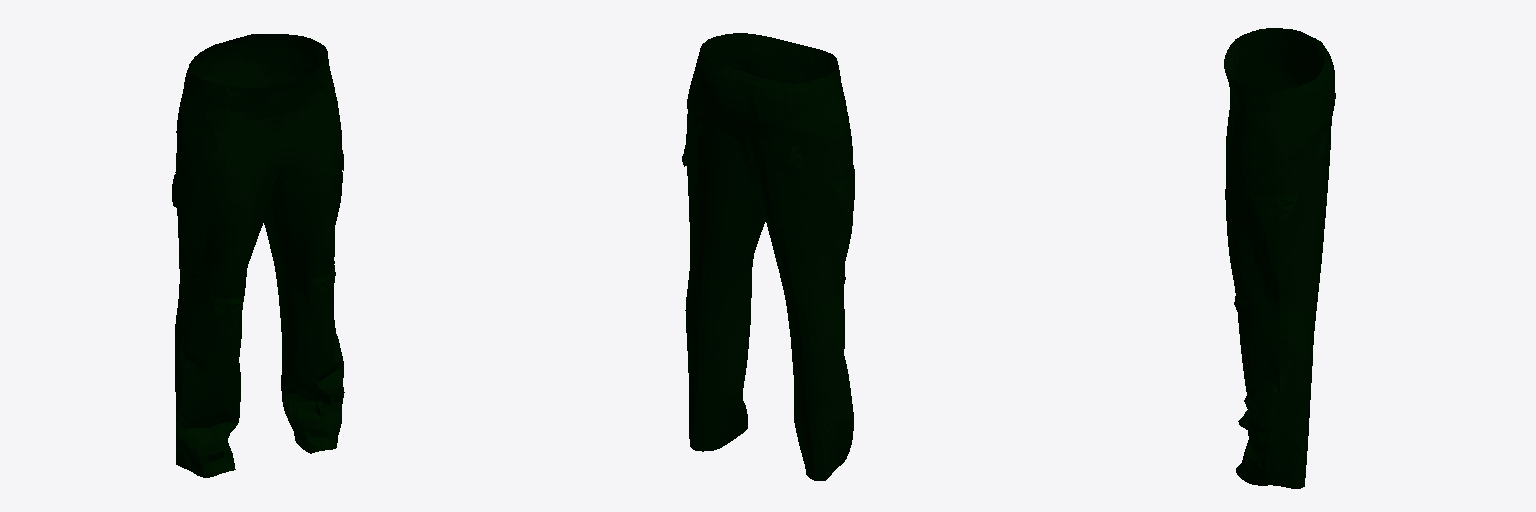
File: pants_green.obj
3 renders of one model, left to right at view 1: azimuth 30°, elevation 25°; view 2: azimuth 150°, elevation 25°; view 3: azimuth 270°, elevation 25°, orthographic.
Parts seen in each view (by area): view 1: CAMO_PANTS_Untitled; view 2: CAMO_PANTS_Untitled; view 3: CAMO_PANTS_Untitled.
Boxes of the visible parts, x1=… form: CAMO_PANTS_Untitled: x1=172, y1=34, x2=344, y2=477; CAMO_PANTS_Untitled: x1=682, y1=33, x2=854, y2=480; CAMO_PANTS_Untitled: x1=1224, y1=28, x2=1335, y2=488.
Size of the model in its own units: 0.7836 by 1.83 by 0.4602.